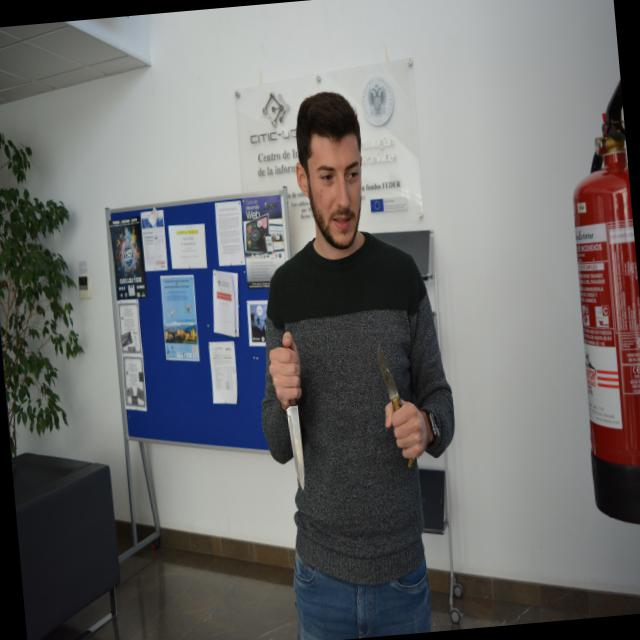knife: (372, 337, 417, 469), (282, 390, 311, 496)
